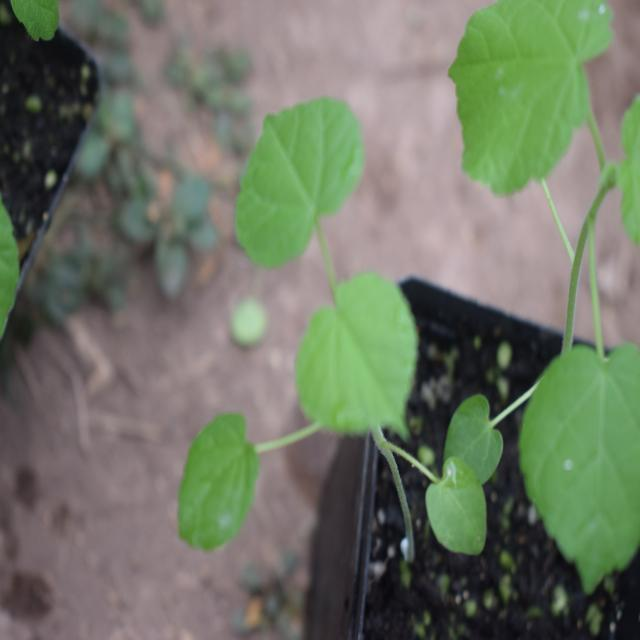abutilon theophrasti: (153, 82, 441, 520)
